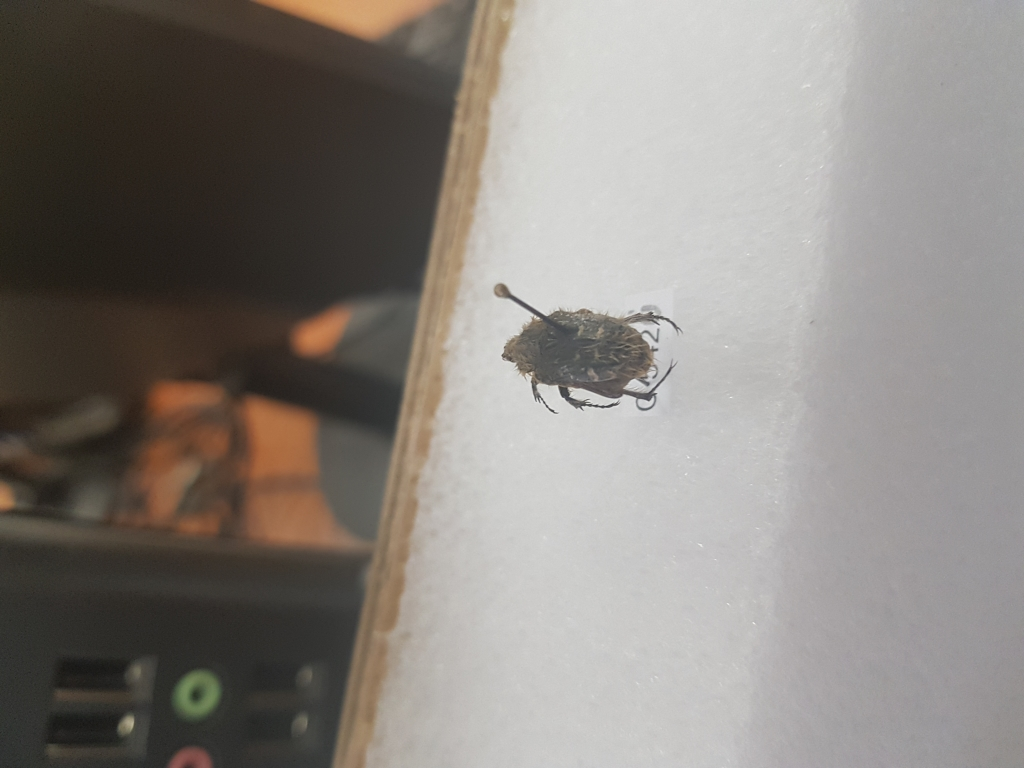Tropinota_hirta: (488, 298, 697, 419)
